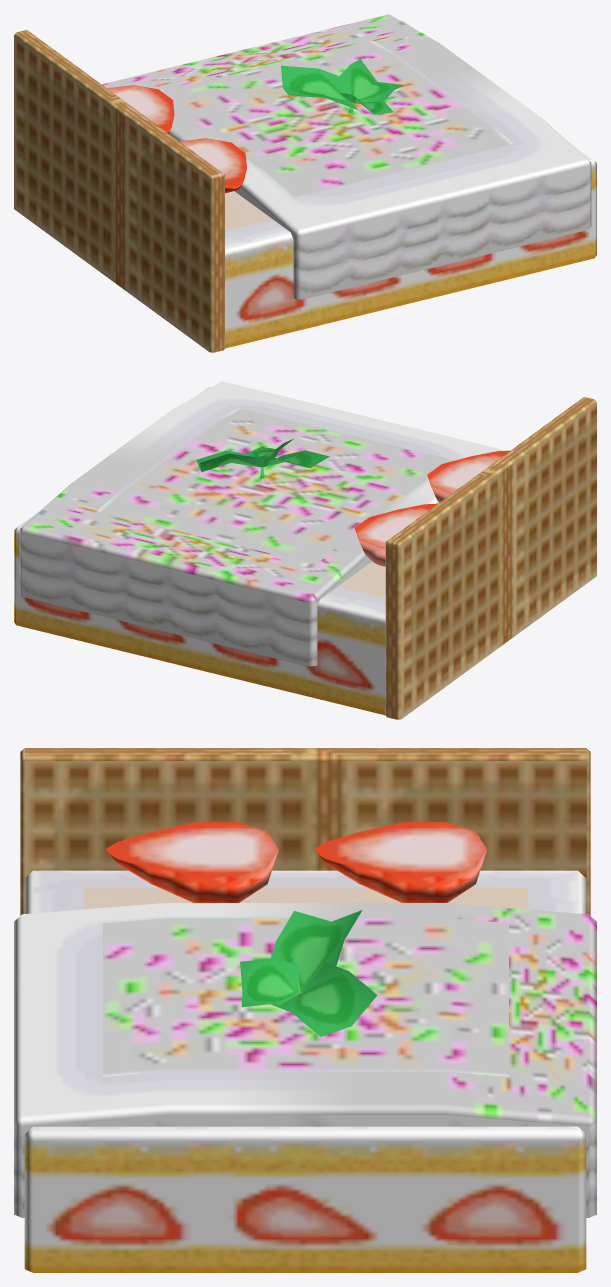
Rendered from int_swt_bedW.dae.
The picture shows the model from 3 angles, top to bottom: view 1: azimuth 30°, elevation 25°; view 2: azimuth 150°, elevation 25°; view 3: azimuth 270°, elevation 25°; orthographic projection. The views are drawn at different scales.
Parts seen in each view (by area): view 1: int_swt_bedW; view 2: int_swt_bedW; view 3: int_swt_bedW.
Boxes of the visible parts, left/top/right/bottom form: int_swt_bedW: left=14, top=14, right=596, bottom=352; int_swt_bedW: left=14, top=381, right=596, bottom=719; int_swt_bedW: left=14, top=748, right=596, bottom=1272.
Size of the model in its own units: 60.75 by 26.2 by 54.72.
Materials: 2 (2 with a texture image).
